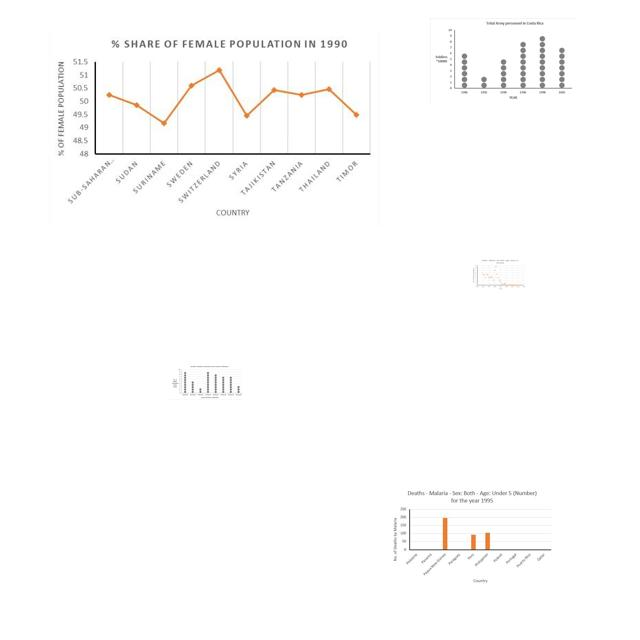Graph: (49, 31, 380, 226), (390, 488, 555, 584), (430, 18, 575, 103), (170, 365, 243, 400), (472, 259, 526, 290)
